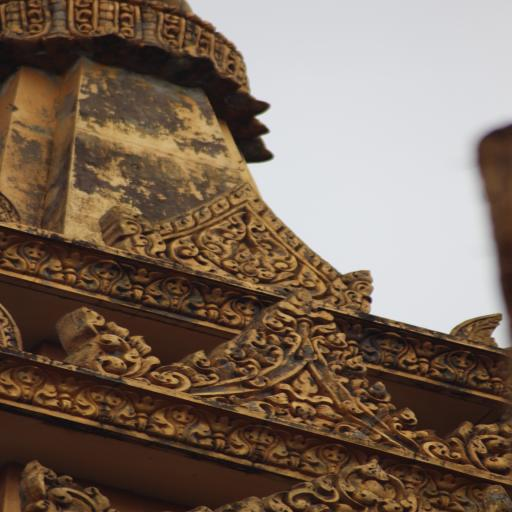la: (167, 291, 440, 453), (152, 188, 330, 294), (64, 309, 156, 375), (21, 458, 124, 512), (62, 375, 138, 428), (332, 461, 409, 512), (234, 475, 340, 512), (228, 414, 298, 467), (452, 412, 512, 473), (432, 342, 504, 390), (148, 394, 214, 446), (357, 322, 427, 371), (68, 251, 141, 295), (148, 270, 214, 318), (4, 234, 70, 278), (1, 364, 56, 412), (303, 435, 359, 475), (393, 458, 444, 500), (462, 477, 512, 512), (216, 290, 258, 326)
